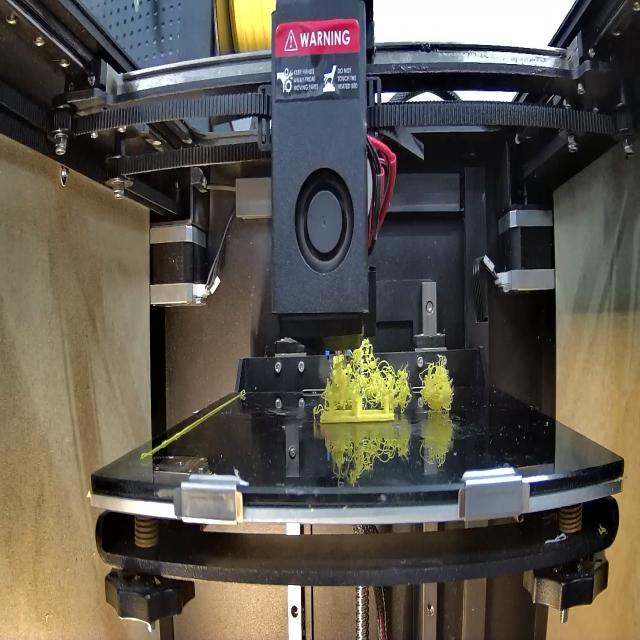spaghetti: (316, 340, 455, 410)
